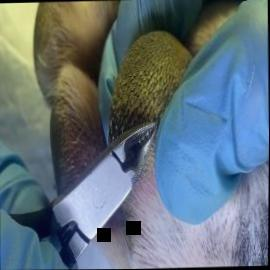keratosis: (108, 28, 198, 148)
